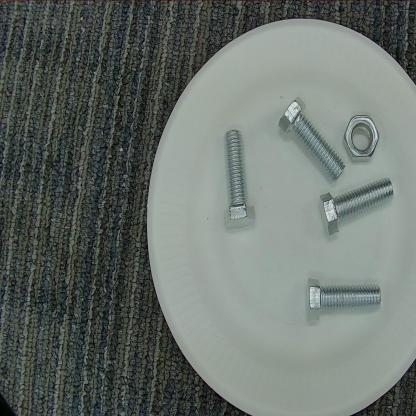FOD: (272, 95, 346, 190), (212, 122, 258, 238), (317, 174, 399, 238), (295, 279, 391, 320), (345, 113, 380, 164)
